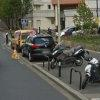Motorcycle: (47, 42, 86, 74)
